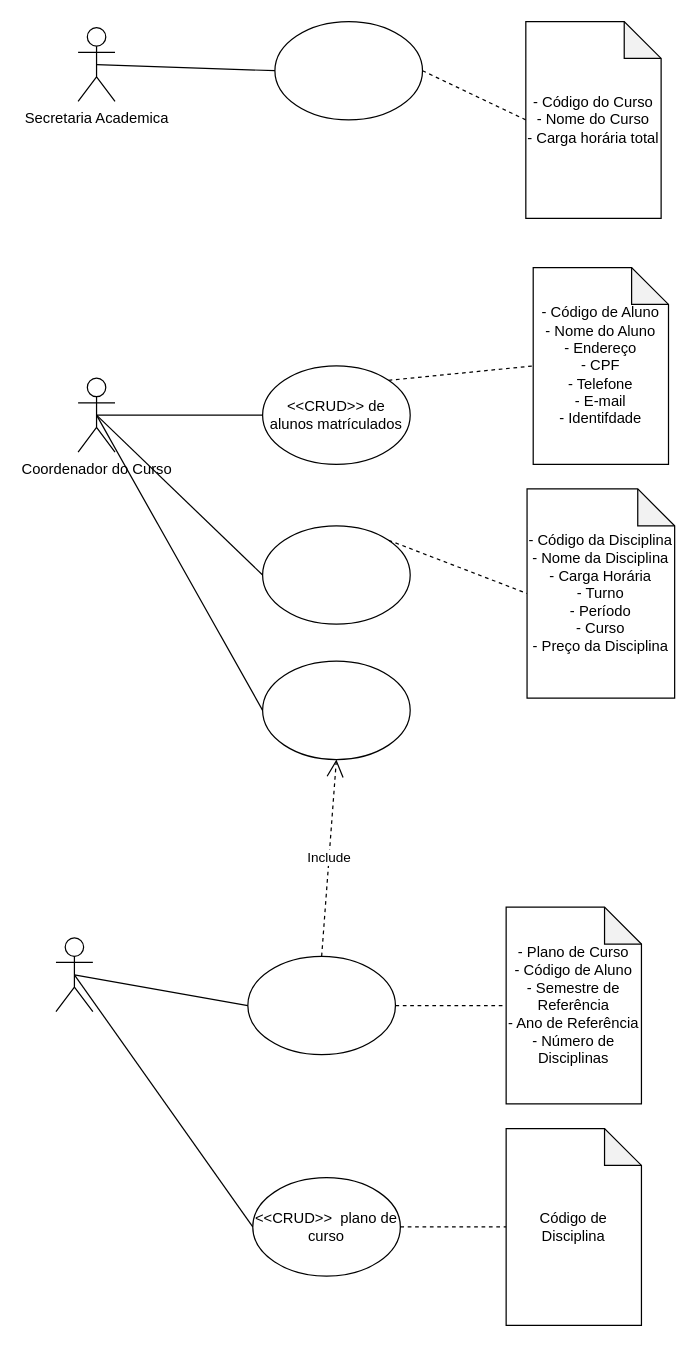
Some shapes in this 696 by 1347 pixel diagram are drawn without their labels. Here are the shapes that lost their labels. From the top down, the box of each, then its label:
(274, 20, 423, 120): <<CRUD>> de cursos ofertados
(261, 525, 410, 624): <<CRUD>> de disciplinas
(261, 660, 410, 760): Validação de matrícula
(55, 937, 93, 1012): Aluno
(247, 955, 395, 1055): <<CRUD>> matrícula
